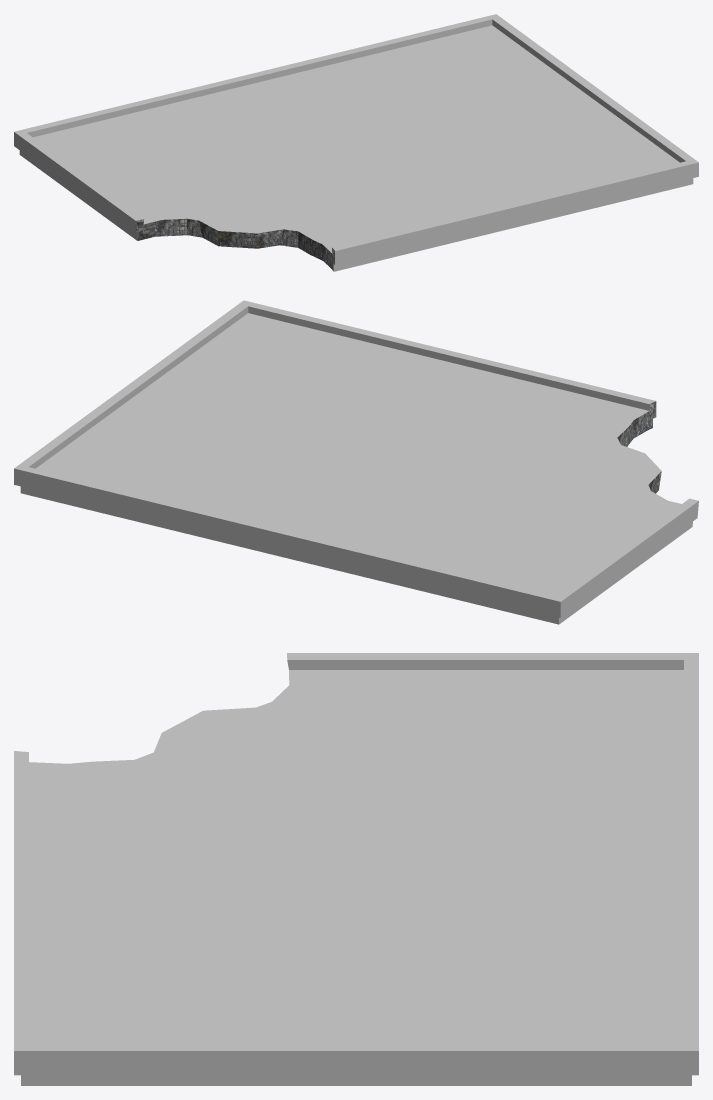
The model's file is jianzhu3.FBX.
The picture shows the model from 3 angles, top to bottom: view 1: azimuth 30°, elevation 25°; view 2: azimuth 150°, elevation 25°; view 3: azimuth 270°, elevation 25°; orthographic projection. The views are drawn at different scales.
Parts seen in each view (by area): view 1: polySurface481, quekou; view 2: polySurface481, quekou; view 3: polySurface481.
Boxes of the visible parts, x1=… form: polySurface481: x1=14, y1=14, x2=698, y2=271; quekou: x1=134, y1=218, x2=334, y2=270; polySurface481: x1=14, y1=300, x2=698, y2=624; quekou: x1=617, y1=401, x2=661, y2=493; polySurface481: x1=14, y1=653, x2=698, y2=1085.
Size of the model in its own units: 14.61 by 0.6505 by 10.63.
